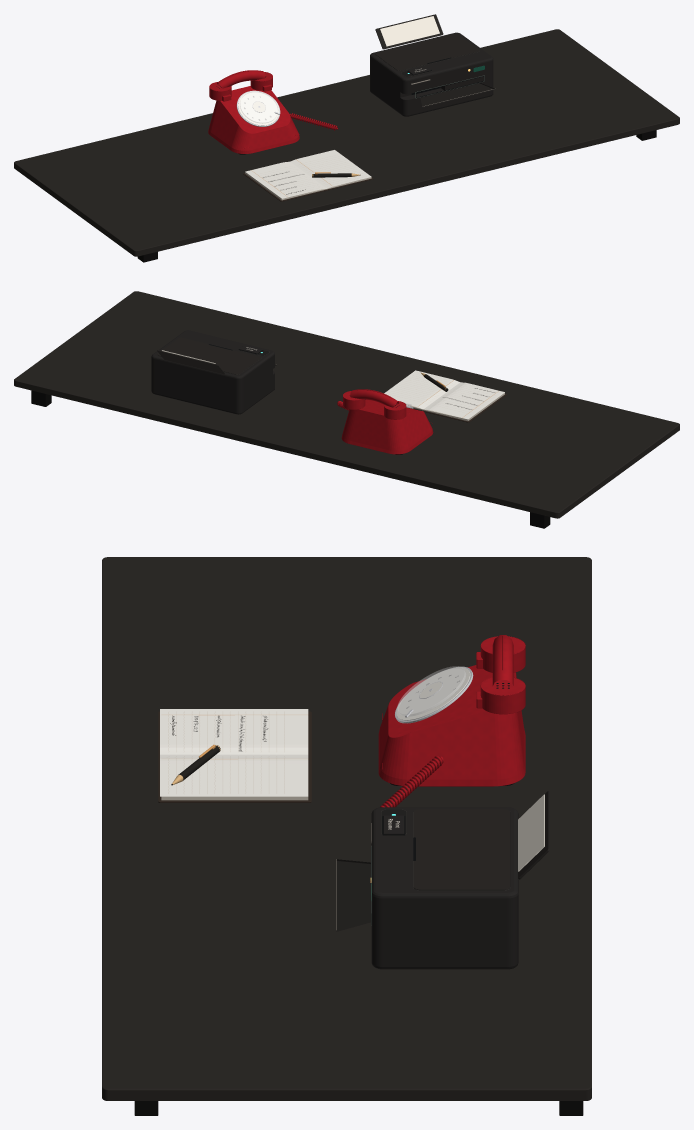
File: station-contact.glb
3 views of the same model, one above another, from view 1: azimuth 30°, elevation 25°; view 2: azimuth 150°, elevation 25°; view 3: azimuth 270°, elevation 25° (orthographic). The views are drawn at different scales.
Parts seen in each view (by area): view 1: Shared_Resume_Desk_Station.Top, Shared_Resume_Prop_Printer.Body, Shared_Contact_Prop_RotaryTelephone.Body, Shared_Contact_Notebook_Open.Pages, Shared_Resume_Prop_Printer.ScannerLid, Shared_Resume_Prop_Printer.PaperSheet, Shared_Contact_Prop_RotaryTelephone.NumberPlate, Shared_Contact_Prop_RotaryTelephone.FingerWheel, Shared_Resume_Prop_Printer.OutputTray, Shared_Contact_Prop_RotaryTelephone.HandsetHandle, Shared_Resume_Prop_Printer.RearSupport; view 2: Shared_Resume_Desk_Station.Top, Shared_Resume_Prop_Printer.Body, Shared_Contact_Prop_RotaryTelephone.Body, Shared_Contact_Notebook_Open.Pages, Shared_Resume_Prop_Printer.ScannerLid, Shared_Resume_Prop_Printer.RearSupport, Shared_Contact_Prop_RotaryTelephone.HandsetHandle; view 3: Shared_Resume_Desk_Station.Top, Shared_Resume_Prop_Printer.Body, Shared_Contact_Notebook_Open.Pages, Shared_Contact_Prop_RotaryTelephone.Body, Shared_Resume_Prop_Printer.ScannerLid, Shared_Resume_Prop_Printer.OutputTray, Shared_Contact_Prop_RotaryTelephone.NumberPlate, Shared_Contact_Prop_RotaryTelephone.FingerWheel, Shared_Contact_Prop_RotaryTelephone.HandsetCup_1, Shared_Resume_Prop_Printer.PaperSheet, Shared_Contact_Notebook_Open.Cover, Shared_Contact_Prop_RotaryTelephone.HandsetHandle (+1 smaller).
Boxes of the visible parts, <box> form: Shared_Resume_Desk_Station.Top: <box>14,29,679,256</box>; Shared_Resume_Prop_Printer.Body: <box>370,32,493,116</box>; Shared_Contact_Prop_RotaryTelephone.Body: <box>208,86,299,153</box>; Shared_Contact_Notebook_Open.Pages: <box>245,150,371,198</box>; Shared_Resume_Prop_Printer.ScannerLid: <box>375,33,479,70</box>; Shared_Resume_Prop_Printer.PaperSheet: <box>380,16,439,46</box>; Shared_Contact_Prop_RotaryTelephone.NumberPlate: <box>238,91,279,125</box>; Shared_Contact_Prop_RotaryTelephone.FingerWheel: <box>240,92,277,123</box>; Shared_Resume_Prop_Printer.OutputTray: <box>420,83,494,107</box>; Shared_Contact_Prop_RotaryTelephone.HandsetHandle: <box>217,70,265,88</box>; Shared_Resume_Prop_Printer.RearSupport: <box>375,14,443,49</box>; Shared_Resume_Desk_Station.Top: <box>14,291,679,518</box>; Shared_Resume_Prop_Printer.Body: <box>151,330,274,414</box>; Shared_Contact_Prop_RotaryTelephone.Body: <box>341,400,433,454</box>; Shared_Contact_Notebook_Open.Pages: <box>384,370,504,419</box>; Shared_Resume_Prop_Printer.ScannerLid: <box>157,337,260,374</box>; Shared_Resume_Prop_Printer.RearSupport: <box>157,350,224,374</box>; Shared_Contact_Prop_RotaryTelephone.HandsetHandle: <box>350,389,398,407</box>; Shared_Resume_Desk_Station.Top: <box>102,557,591,1100</box>; Shared_Resume_Prop_Printer.Body: <box>371,807,518,969</box>; Shared_Contact_Notebook_Open.Pages: <box>160,709,308,796</box>; Shared_Contact_Prop_RotaryTelephone.Body: <box>378,665,525,786</box>; Shared_Resume_Prop_Printer.ScannerLid: <box>413,809,510,890</box>; Shared_Resume_Prop_Printer.OutputTray: <box>336,859,370,931</box>; Shared_Contact_Prop_RotaryTelephone.NumberPlate: <box>396,667,470,720</box>; Shared_Contact_Prop_RotaryTelephone.FingerWheel: <box>397,666,465,716</box>; Shared_Contact_Prop_RotaryTelephone.HandsetCup_1: <box>480,678,525,714</box>; Shared_Resume_Prop_Printer.PaperSheet: <box>518,794,544,871</box>; Shared_Contact_Notebook_Open.Cover: <box>158,711,311,802</box>; Shared_Contact_Prop_RotaryTelephone.HandsetHandle: <box>492,635,513,685</box>.
Bounding box in the file's own units: 1.8 × 0.2432 × 0.7.
Materials: 30 (4 with a texture image).
